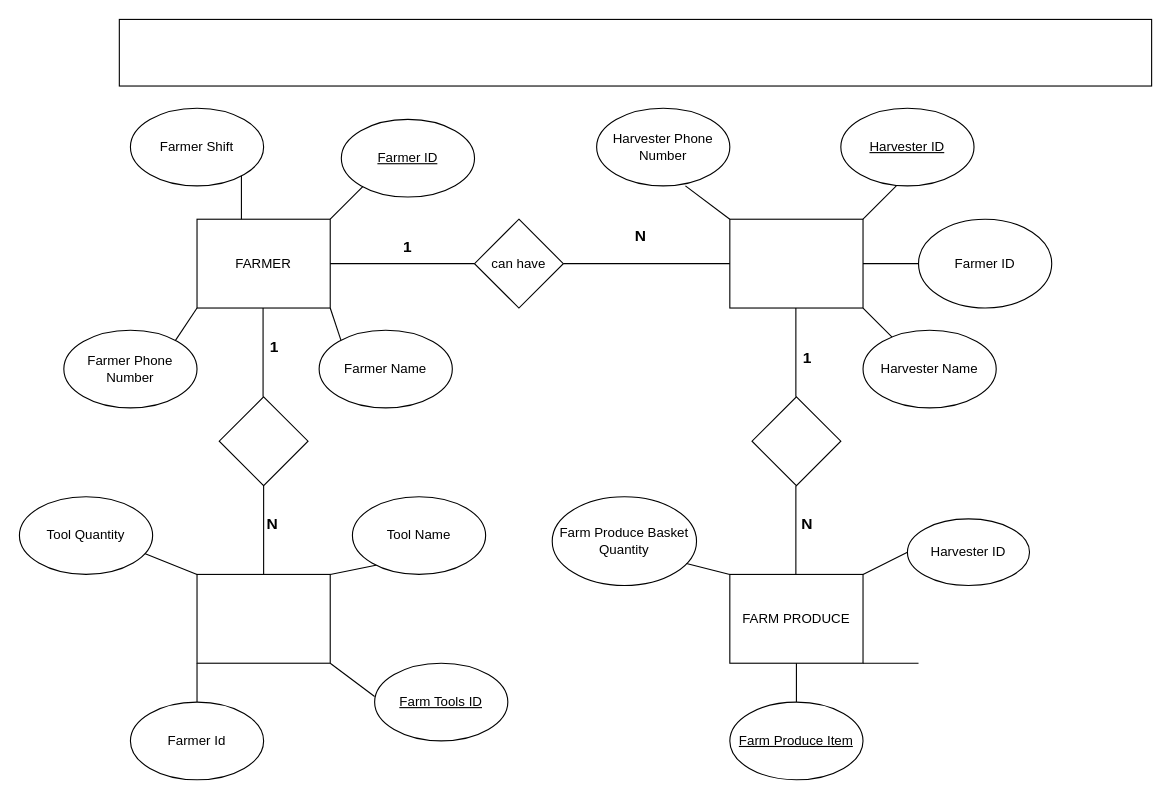
Some shapes in this 1171 by 799 pixel diagram are drawn without their labels. The shapes that lost their labels are listed below. From the top down, each one's box as (x1, y1, x2, y2) in pixels, then its label:
(118, 18, 1152, 86): AGRICULTURE FARM MANAGEMENT SYSTEM
(729, 218, 863, 308): HARVESTER
(218, 396, 308, 486): Owns
(751, 396, 841, 486): Harvests/ Extracts
(196, 573, 330, 663): FARM TOOLS
